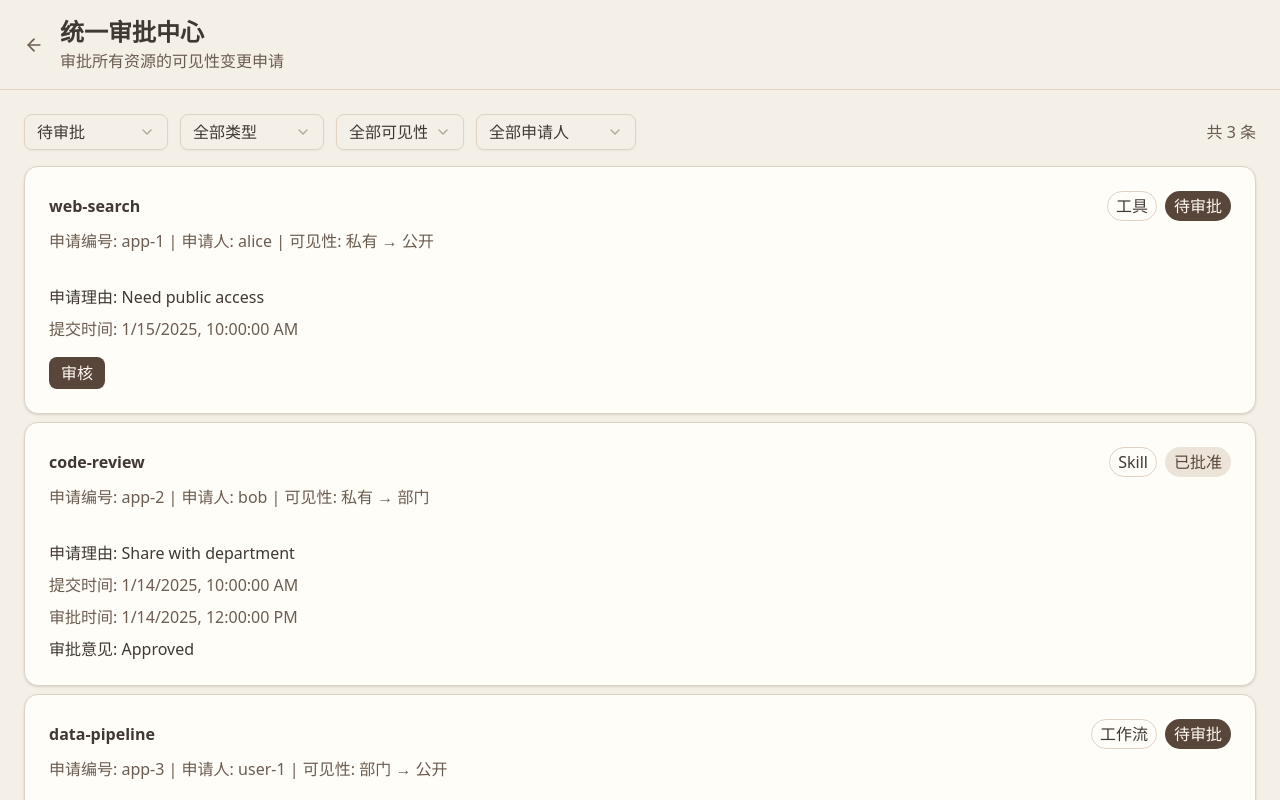
Test case: VisibilityApplicationsPage › opens review dialog when review button is clicked
Check: the text "web-search" is shown, box [49,198,140,214]
Click the button "审核" at (77,373), box [49,357,105,389]
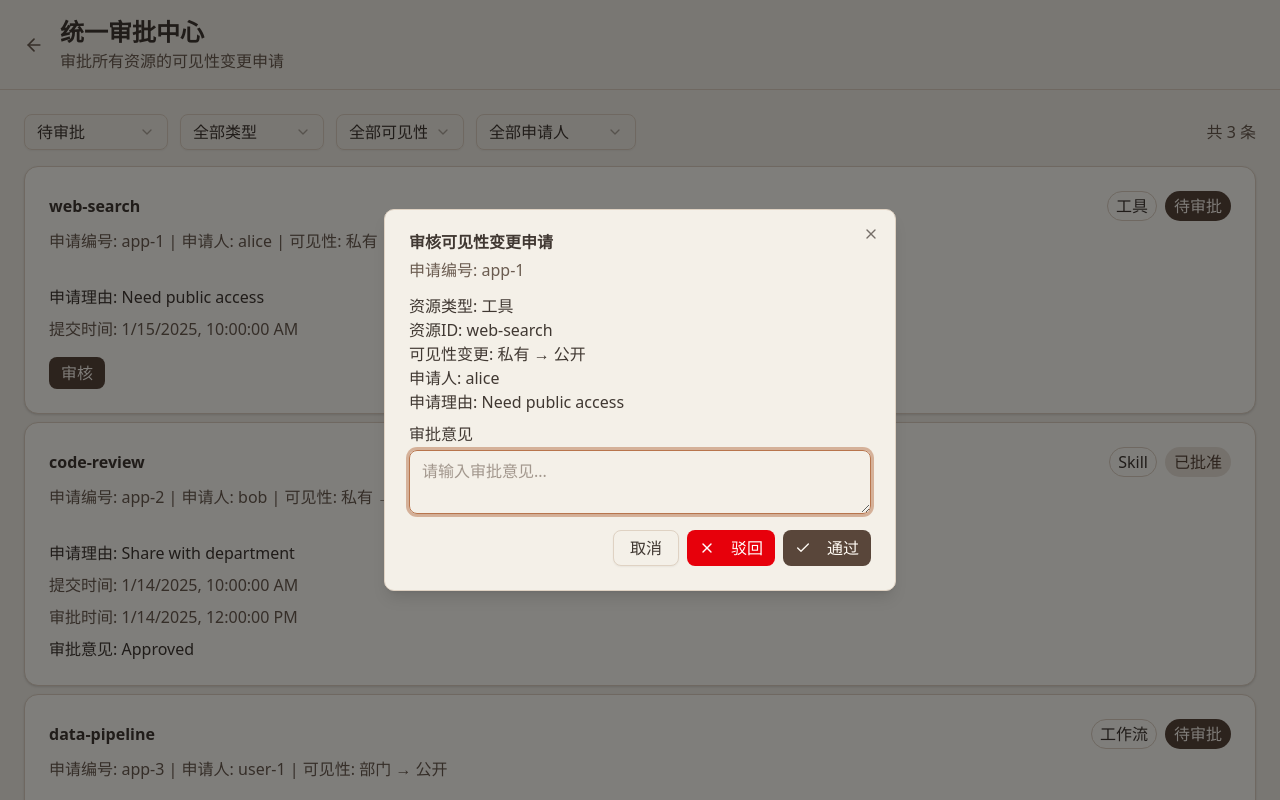
Check: the heading "审核可见性变更申请" is shown, box [409,231,553,253]
Check: the text "资源ID: web-search" is shown, box [409,319,553,341]
